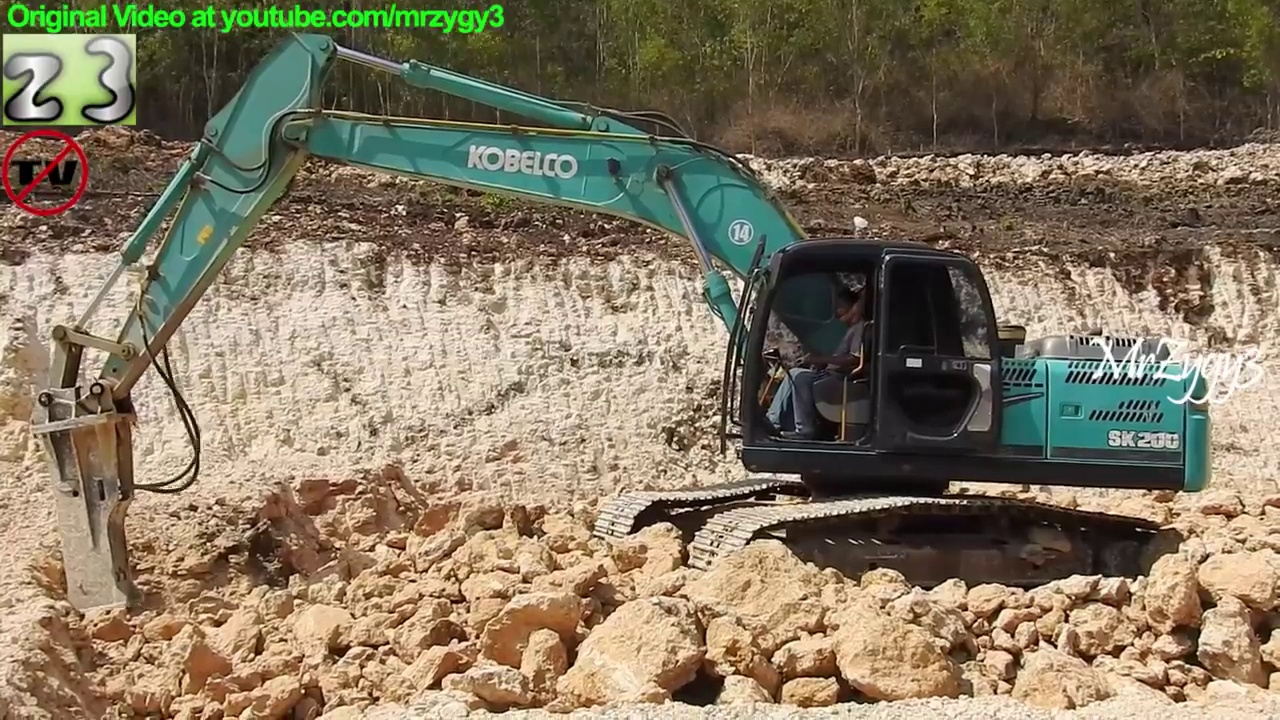excavator breaker: (27, 26, 1219, 621)
